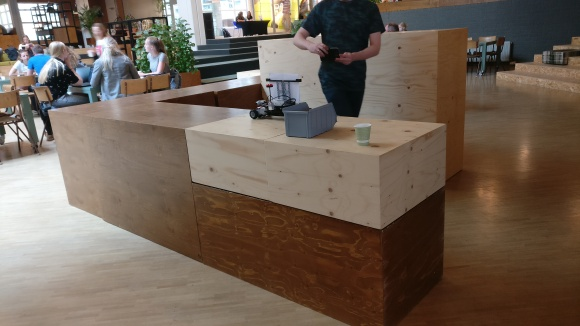cup: (353, 122, 372, 146)
tray: (281, 99, 337, 138)
